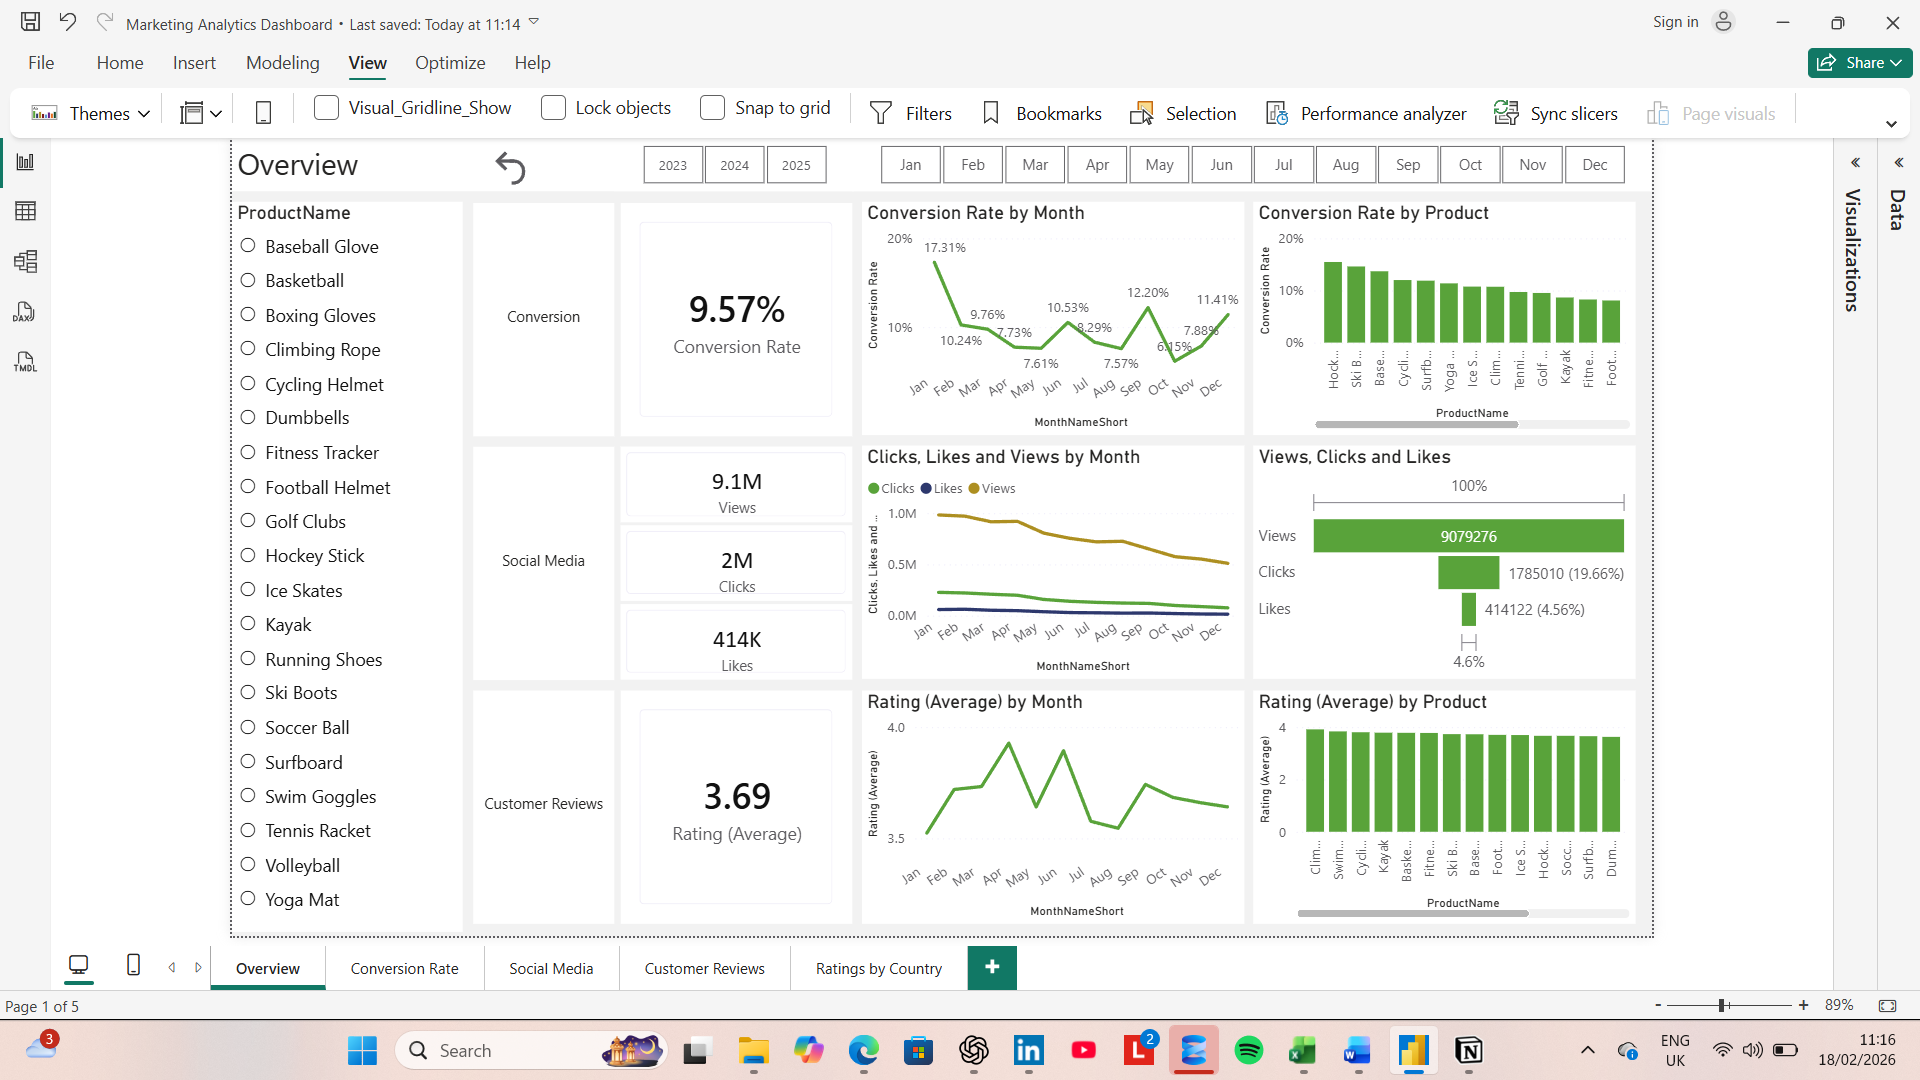

This screenshot's page, from the dashboard's own definition file:
{"tool":"powerbi","page":{"name":"Overview","canvas":[1280,720],"ordinal":0},"visuals":[{"type":"textbox","box":[0,0,1280,47.7],"z":0},{"type":"listSlicer","fields":{"Values":["dim_products.ProductName"]},"box":[0,57.7,207.7,658.8],"z":1000},{"type":"textbox","box":[217.2,58.2,127,210],"z":2000},{"type":"textbox","box":[217.2,278.3,127,210],"z":3000},{"type":"textbox","box":[217.2,498.4,127,210.4],"z":4000},{"type":"cardVisual","fields":{"Data":["_Calculations.Conversion Rate"]},"box":[351.1,58.5,208.5,210.3],"z":5000},{"type":"cardVisual","fields":{"Data":["_Calculations.Rating (Average)"]},"box":[351,498.4,208.5,210.4],"z":6000},{"type":"cardVisual","fields":{"Data":["_Calculations.Views"]},"box":[351,278.3,208.5,68],"z":7000},{"type":"cardVisual","fields":{"Data":["_Calculations.Clicks"]},"box":[351,349.1,208.5,67.9],"z":8000},{"type":"cardVisual","fields":{"Data":["_Calculations.Likes"]},"box":[351,420.8,208.5,67.9],"z":9000},{"type":"slicer","fields":{"Values":["Calendar.Year"]},"box":[344.6,0,214.9,48.1],"z":10000},{"type":"slicer","fields":{"Values":["Calendar.MonthNameShort"]},"box":[559.5,0,720.9,48.1],"z":11000},{"type":"lineChart","title":"Conversion Rate by Month","fields":{"Y":["_Calculations.Conversion Rate"],"Category":["Calendar.MonthNameShort"]},"box":[568.6,58,345,210],"z":12000},{"type":"columnChart","title":"Conversion Rate by Product","fields":{"Category":["dim_products.ProductName"],"Y":["_Calculations.Conversion Rate"]},"box":[921.3,58,345,210],"z":13000},{"type":"lineChart","title":"Clicks, Likes and Views by Month","fields":{"Y":["_Calculations.Clicks","_Calculations.Likes","_Calculations.Views"],"Category":["Calendar.MonthNameShort"]},"box":[568.6,277.5,344.6,210.4],"z":14000},{"type":"funnel","fields":{"Y":["_Calculations.Views","_Calculations.Clicks","_Calculations.Likes"]},"box":[921.3,277.5,344.6,210.4],"z":15000},{"type":"lineChart","title":"Rating (Average) by Month","fields":{"Y":["_Calculations.Rating (Average)"],"Category":["Calendar.MonthNameShort"]},"box":[568.6,498.7,344.6,210.4],"z":16000},{"type":"columnChart","title":"Rating (Average) by Product","fields":{"Y":["_Calculations.Rating (Average)"],"Category":["dim_products.ProductName"]},"box":[921.3,498.7,344.6,210.4],"z":17000},{"type":"actionButton","box":[217,7,100.2,40.3],"z":17001}]}

Visuals, with their boxes on the page's 1280x720 design canvas (x1, y1, x2, y2). These are canvas units, not pixel positions in the 1920x1080 screenshot, which may show the page scaled, cropped or inside an application window:
textbox: [0,0,1280,48]
listSlicer - dim_products.ProductName: [0,58,208,716]
textbox: [217,58,344,268]
textbox: [217,278,344,488]
textbox: [217,498,344,709]
cardVisual - _Calculations.Conversion Rate: [351,58,560,269]
cardVisual - _Calculations.Rating (Average): [351,498,560,709]
cardVisual - _Calculations.Views: [351,278,560,346]
cardVisual - _Calculations.Clicks: [351,349,560,417]
cardVisual - _Calculations.Likes: [351,421,560,489]
slicer - Calendar.Year: [345,0,560,48]
slicer - Calendar.MonthNameShort: [560,0,1280,48]
"Conversion Rate by Month" lineChart: [569,58,914,268]
"Conversion Rate by Product" columnChart: [921,58,1266,268]
"Clicks, Likes and Views by Month" lineChart: [569,278,913,488]
funnel - _Calculations.Views x _Calculations.Clicks: [921,278,1266,488]
"Rating (Average) by Month" lineChart: [569,499,913,709]
"Rating (Average) by Product" columnChart: [921,499,1266,709]
actionButton: [217,7,317,47]
